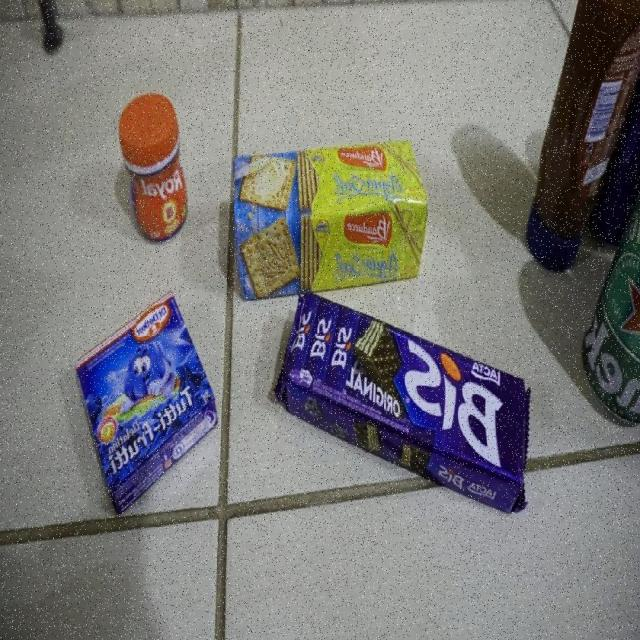BeerCan: (582, 163, 640, 427)
Cracker: (233, 137, 428, 300)
Gelatine: (74, 289, 220, 516)
Ketchup: (525, 0, 640, 273)
Yeast: (117, 90, 190, 245)
